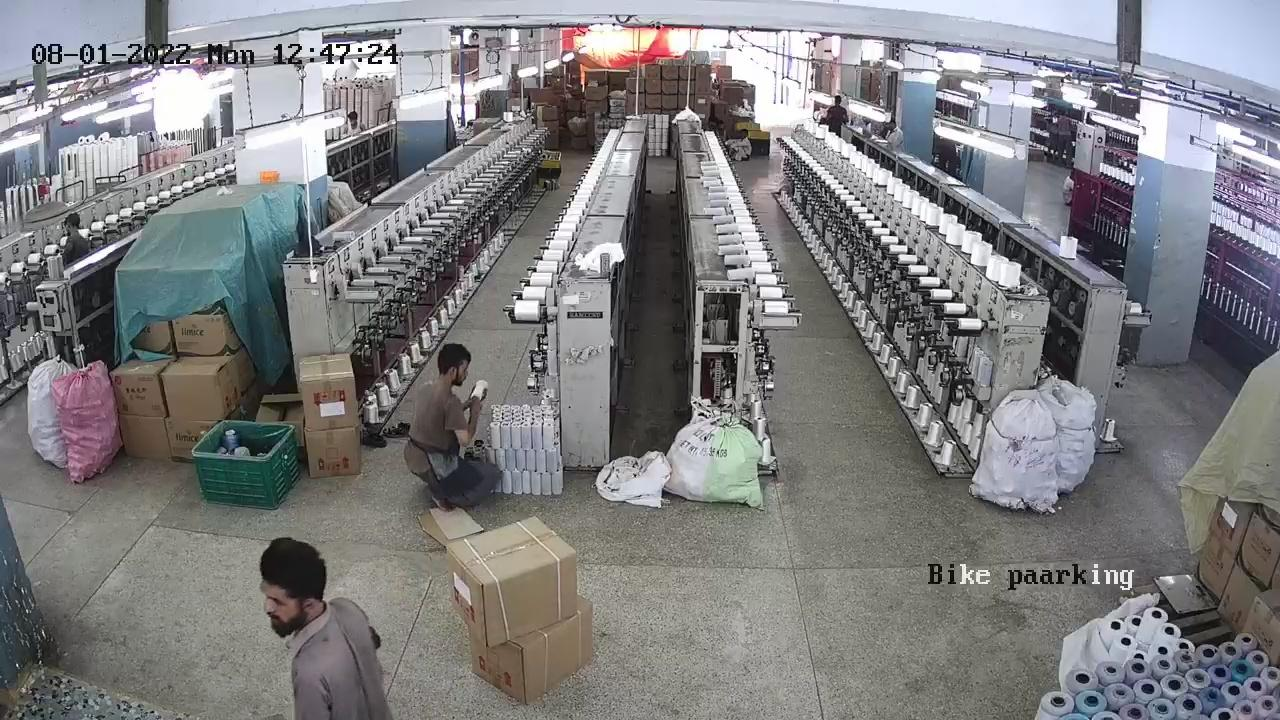person: (261, 538, 395, 720), (419, 338, 494, 498), (59, 212, 89, 253), (827, 92, 847, 132)
